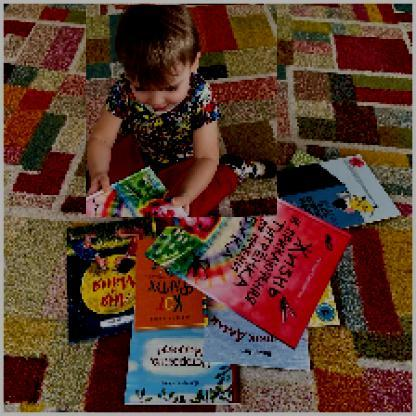child: (87, 6, 279, 219)
